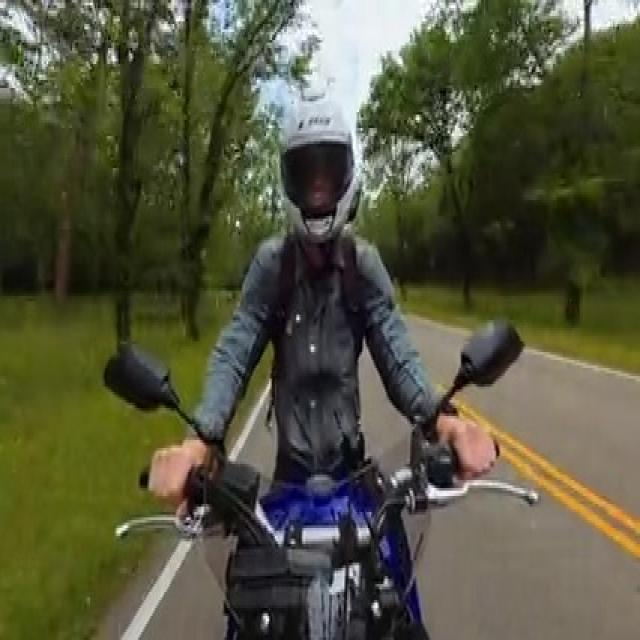Helmet_Wearer: (275, 80, 361, 242)
Person: (155, 95, 495, 482)
